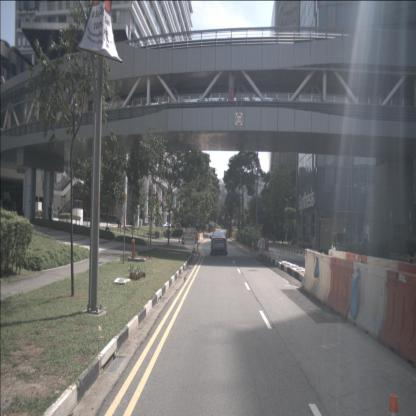barrier: (380, 270, 416, 368), (348, 262, 392, 340), (326, 257, 356, 319), (301, 248, 332, 304), (258, 238, 266, 254), (184, 235, 195, 244), (199, 233, 204, 240)
cone: (252, 243, 254, 252)
